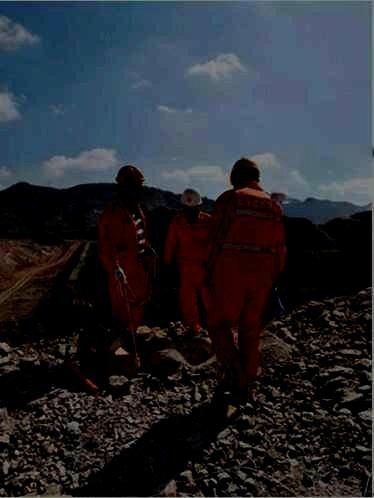helmet: (116, 165, 146, 203), (230, 157, 260, 188), (179, 188, 203, 219)
